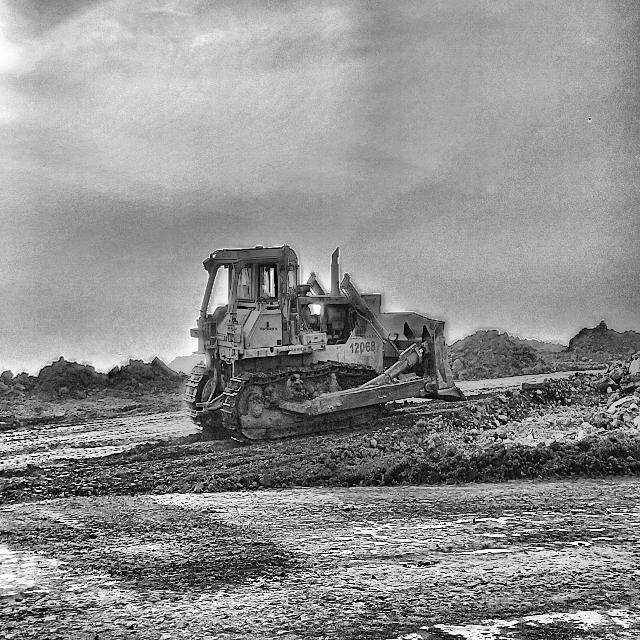buldozerpayloadergrader: (185, 247, 455, 440)
